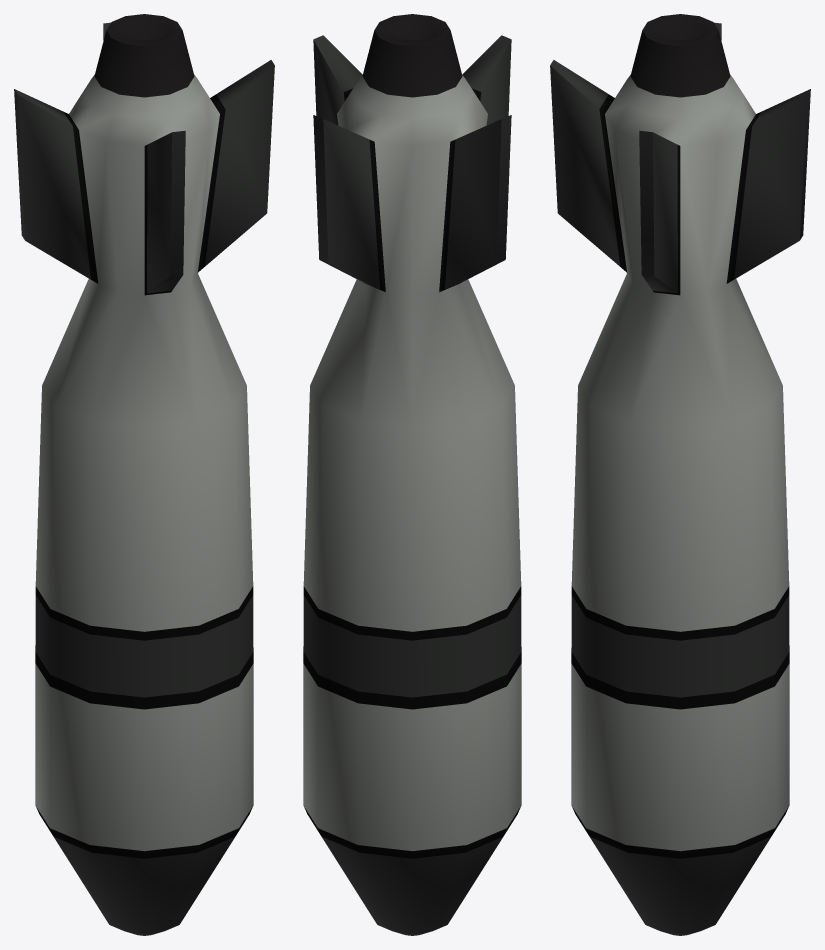
Rendered from Rocket04_Grey.fbx.
3 views of the same model, side by side, from view 1: azimuth 30°, elevation 25°; view 2: azimuth 150°, elevation 25°; view 3: azimuth 270°, elevation 25° (orthographic).
Visible parts, largest first — view 1: Rocket04_Grey; view 2: Rocket04_Grey; view 3: Rocket04_Grey.
Boxes of the visible parts, <box> form: Rocket04_Grey: <box>14,14,274,935</box>; Rocket04_Grey: <box>303,14,521,935</box>; Rocket04_Grey: <box>550,14,810,935</box>.
Bounding box in the file's own units: 2.05 × 7.82 × 2.05.
Materials: 1 (1 with a texture image).
